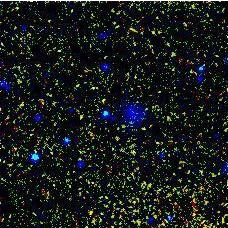star: (47, 39, 77, 69)
